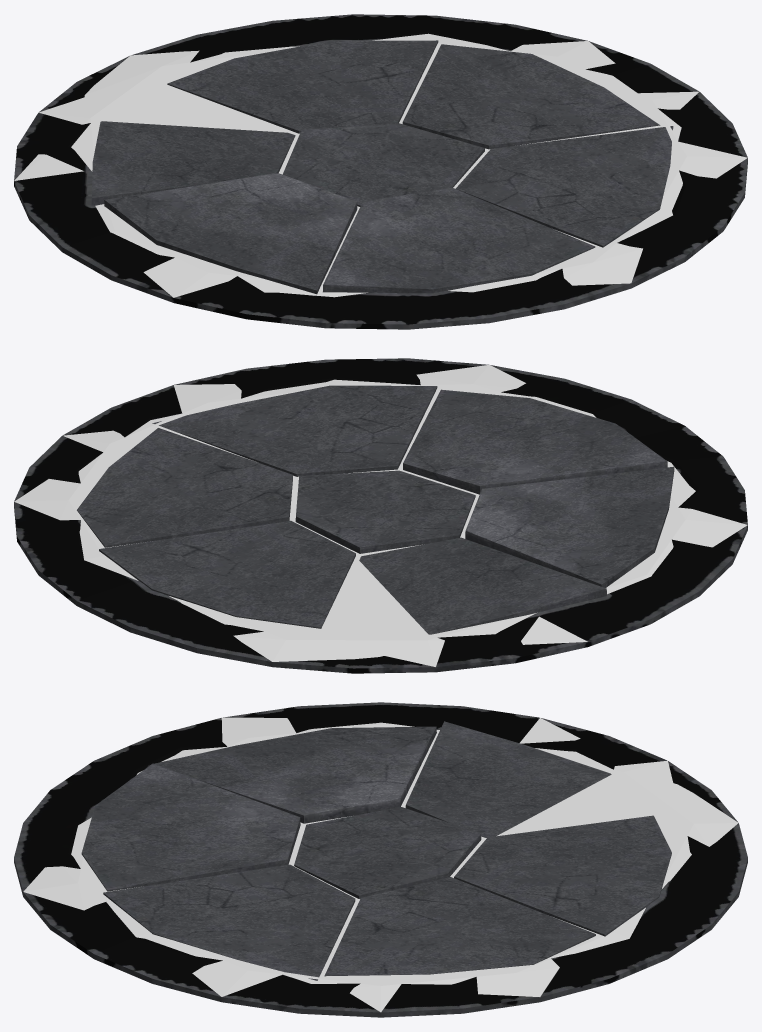
Rendered from crumble.webp.glb.
3 views of the same model, one above another, from view 1: azimuth 30°, elevation 25°; view 2: azimuth 150°, elevation 25°; view 3: azimuth 270°, elevation 25° (orthographic).
Visible parts, largest first — view 1: LOD0, LOD0_RIM, COL; view 2: LOD0, LOD0_RIM, COL; view 3: LOD0, LOD0_RIM, COL.
Boxes of the visible parts, <box> form: LOD0: <box>91,40,673,294</box>; LOD0_RIM: <box>14,14,747,329</box>; COL: <box>14,33,747,297</box>; LOD0: <box>77,385,674,634</box>; LOD0_RIM: <box>14,358,747,673</box>; COL: <box>14,365,747,666</box>; LOD0: <box>81,721,671,980</box>; LOD0_RIM: <box>14,702,747,1017</box>; COL: <box>23,717,738,1012</box>.
Bounding box in the file's own units: 3.9 × 0.1635 × 3.9.
1 material, 1 textured.
